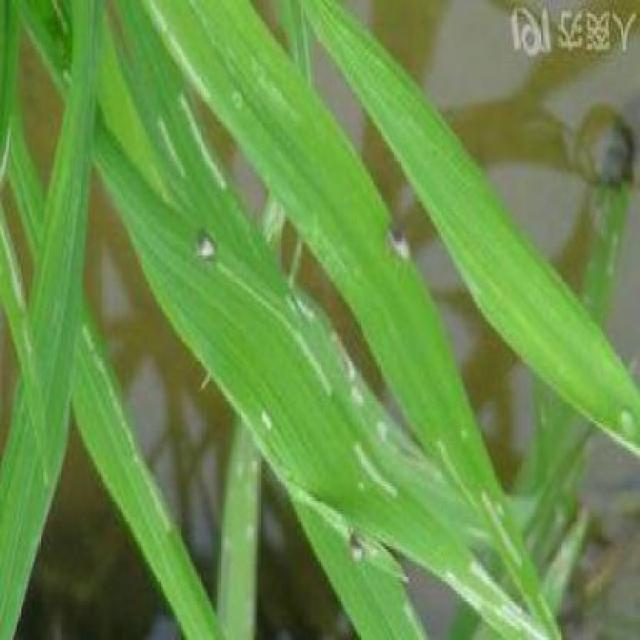rice-bug: (383, 224, 415, 264), (196, 224, 218, 262), (348, 527, 366, 564)
